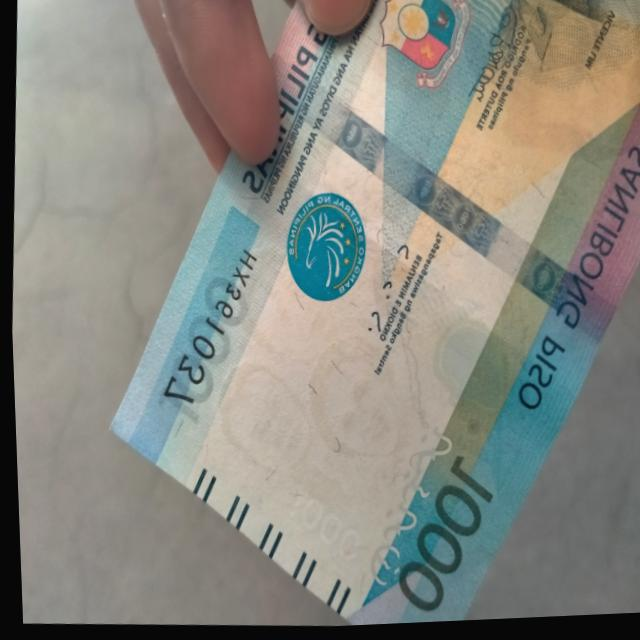security_thread: (245, 42, 625, 363)
see_through_mark: (356, 421, 454, 610)
serial_number: (150, 222, 268, 421)
value_watermark: (272, 484, 372, 571)
watermark: (203, 249, 415, 512)
